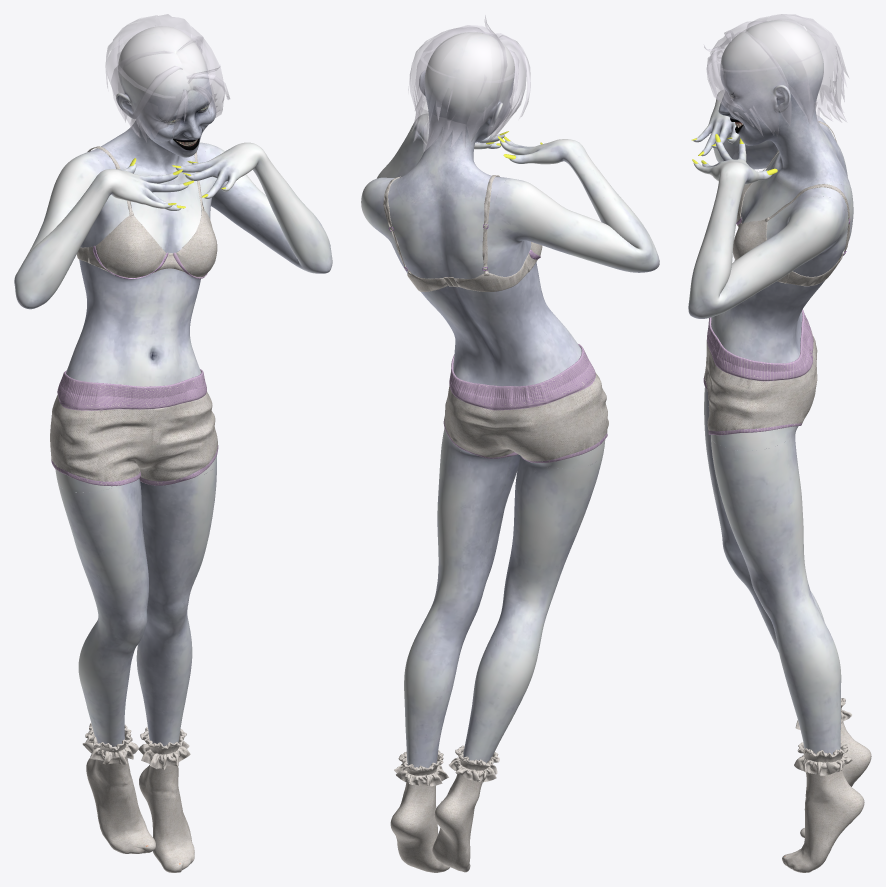
The model's file is Avatar_Base.glb.
The picture shows the model from 3 angles, left to right: view 1: azimuth 30°, elevation 25°; view 2: azimuth 150°, elevation 25°; view 3: azimuth 270°, elevation 25°; orthographic projection. The views are drawn at different scales.
Parts seen in each view (by area): view 1: Genesis9, Bra, hair; view 2: Genesis9, Bra, hair; view 3: Genesis9, Bra, hair.
Boxes of the visible parts, left/top/right/bottom form: Genesis9: left=14, top=26, right=332, bottom=864; Bra: left=50, top=146, right=218, bottom=872; hair: left=105, top=14, right=229, bottom=142; Genesis9: left=361, top=32, right=659, bottom=767; Bra: left=383, top=175, right=608, bottom=872; hair: left=408, top=15, right=530, bottom=151; Genesis9: left=688, top=20, right=853, bottom=856; Bra: left=703, top=121, right=871, bottom=872; hair: left=704, top=14, right=848, bottom=136.
Size of the model in its own units: 64.61 by 175 by 34.74.
16 materials, 12 textured.
